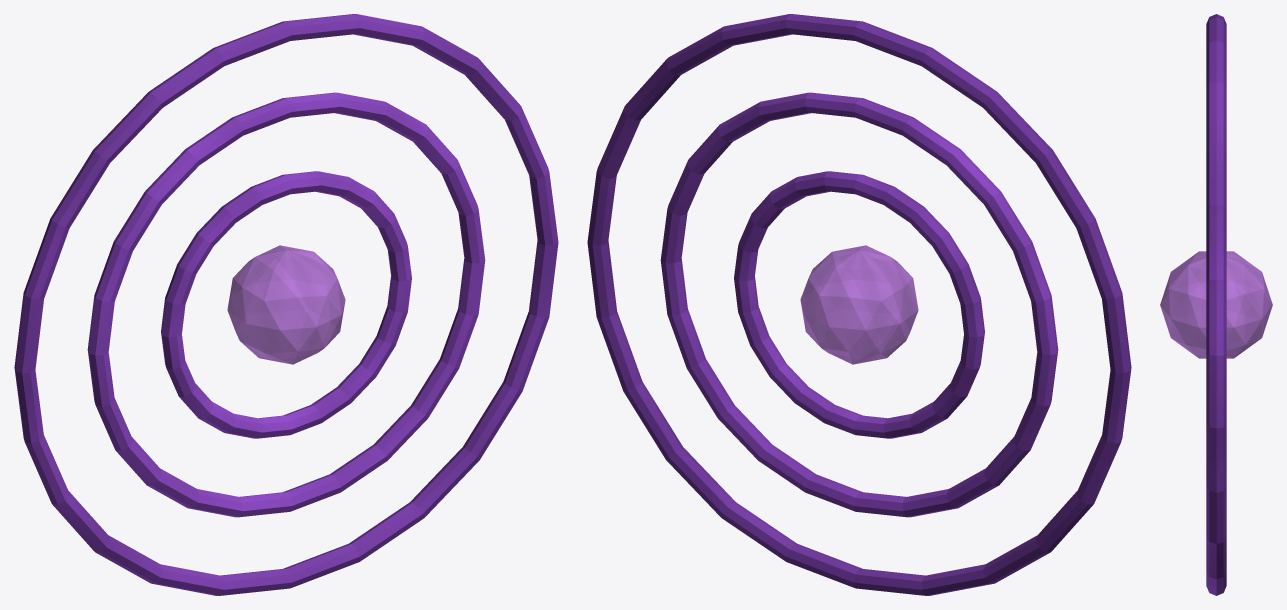
Rendered from echo-warden-awakening.glb.
The picture shows the model from 3 angles, left to right: view 1: azimuth 30°, elevation 25°; view 2: azimuth 150°, elevation 25°; view 3: azimuth 270°, elevation 25°; orthographic projection. The views are drawn at different scales.
Visible parts, largest first — view 1: awakening-ring-2, awakening-ring-1, awakening-ring-0, awakening-flare-core; view 2: awakening-ring-2, awakening-ring-1, awakening-ring-0, awakening-flare-core; view 3: awakening-ring-2, awakening-flare-core.
Part boxes in pixels (box(x1,y1,x2,y2)): awakening-ring-2: box(14, 14, 558, 595); awakening-ring-1: box(87, 92, 485, 517); awakening-ring-0: box(161, 171, 411, 438); awakening-flare-core: box(227, 245, 345, 364); awakening-ring-2: box(587, 14, 1131, 595); awakening-ring-1: box(660, 92, 1058, 517); awakening-ring-0: box(734, 171, 984, 438); awakening-flare-core: box(800, 245, 918, 364); awakening-ring-2: box(1206, 14, 1226, 595); awakening-flare-core: box(1160, 251, 1272, 358).
Size of the model in its own units: 1.04 by 1.04 by 0.2.
4 materials, 4 textured.
